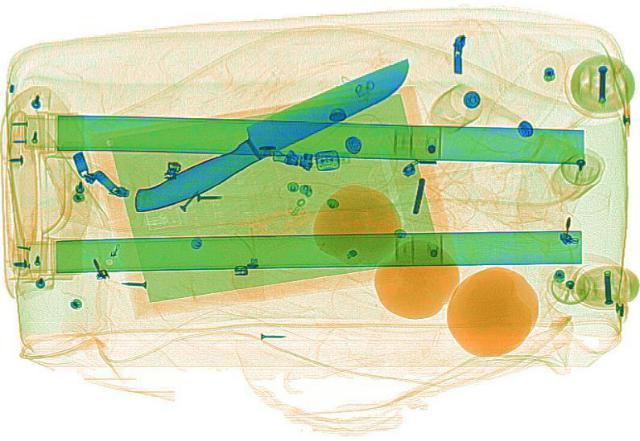Knife: (115, 47, 428, 222)
